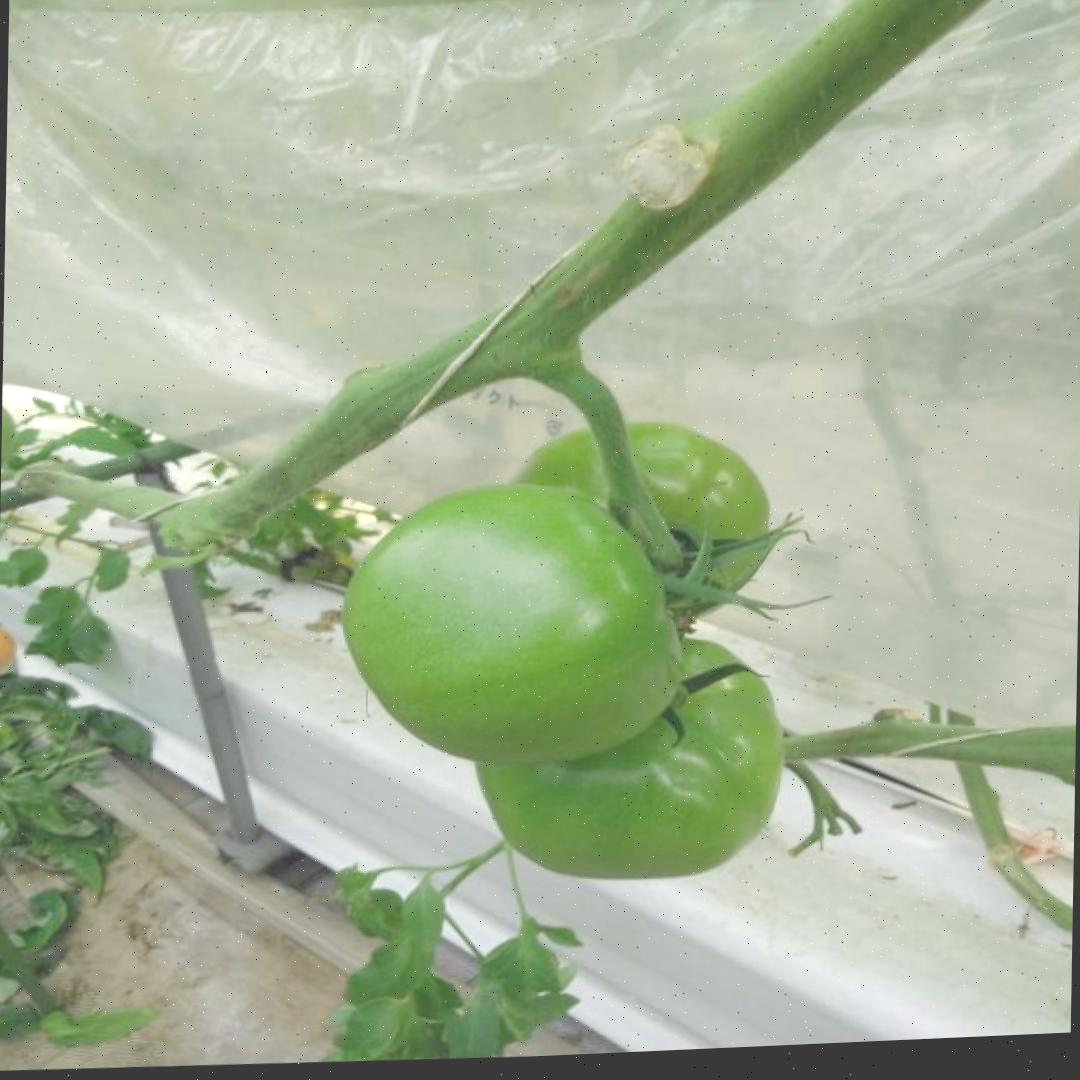mentah: (336, 466, 686, 778)
